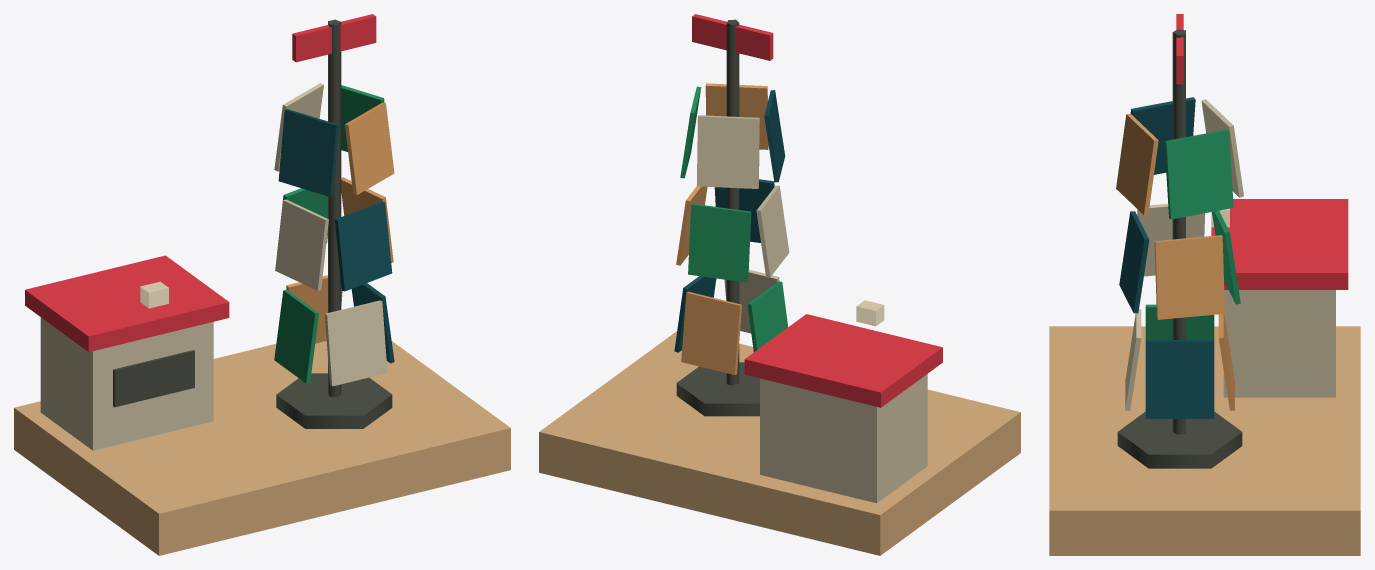
File: postcard-rack.glb
3 views of the same model, side by side, from view 1: azimuth 30°, elevation 25°; view 2: azimuth 150°, elevation 25°; view 3: azimuth 270°, elevation 25° (orthographic). The views are drawn at different scales.
Visible parts, largest first — view 1: Kiosk, Tier (×3), toy_lift; view 2: Kiosk, Tier (×3), toy_lift; view 3: Kiosk, Tier (×3), toy_lift.
Boxes of the visible parts, box(x1,y1,x2,y2) form: Kiosk: box(14, 14, 510, 555); Tier (×3): box(274, 83, 394, 386); toy_lift: box(335, 201, 392, 291); Kiosk: box(539, 14, 1020, 555); Tier (×3): box(674, 83, 789, 374); toy_lift: box(714, 179, 774, 242); Kiosk: box(1049, 14, 1360, 555); Tier (×3): box(1116, 97, 1243, 418); toy_lift: box(1119, 211, 1149, 313).
Size of the model in its own units: 9.8 by 11.48 by 7.
